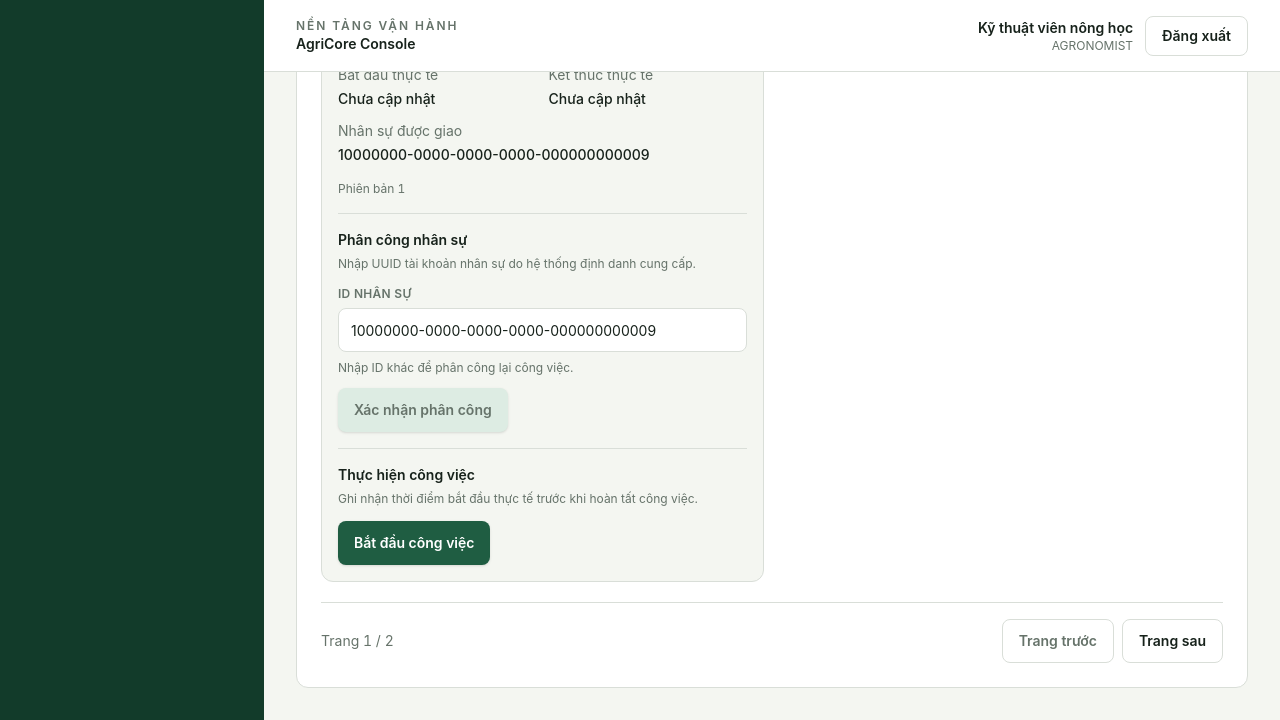
Test: work-task workspace › returns to the cached previous page when a later page fails
(page scrolled)
Click the button "Trang sau": (1172, 641) [1122,619,1223,663]
(page scrolled)
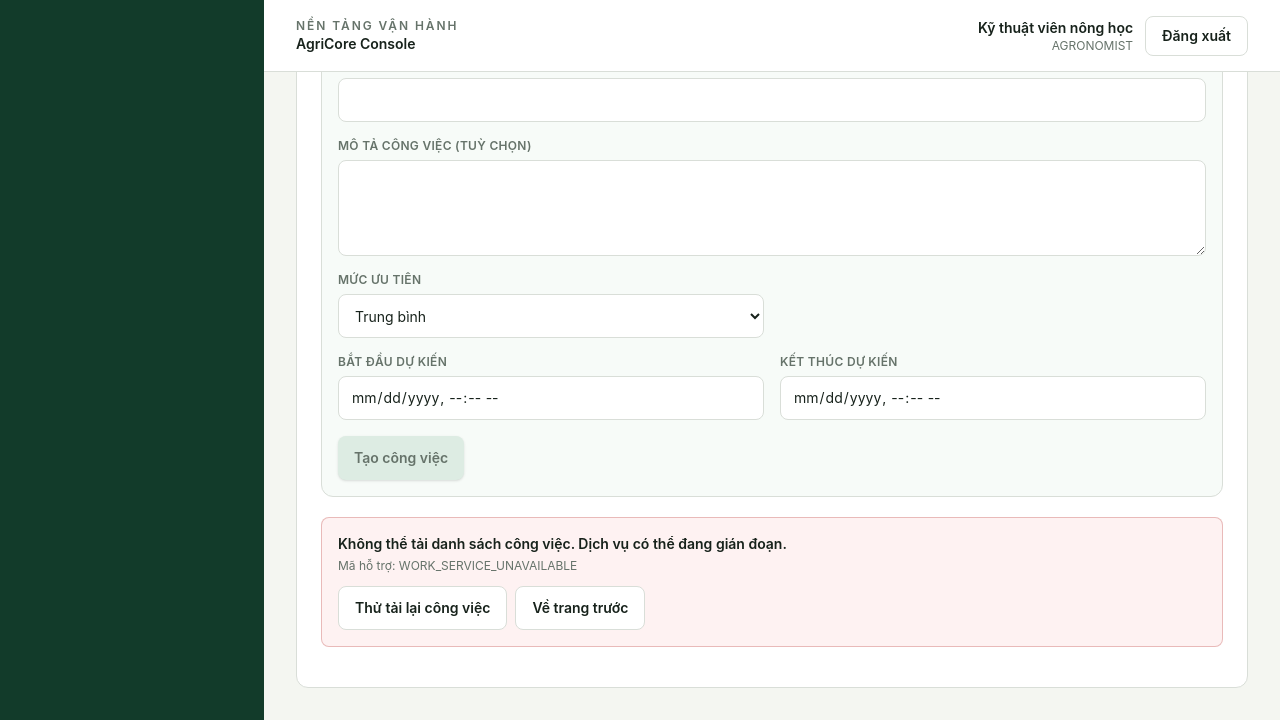
Check: the message named "Không thể tải công việc" shows "WORK_SERVICE_UNAVAILABLE", box [399,558,577,573]
Click the button "Về trang trước": (580, 608) [515,586,645,630]
(page scrolled)
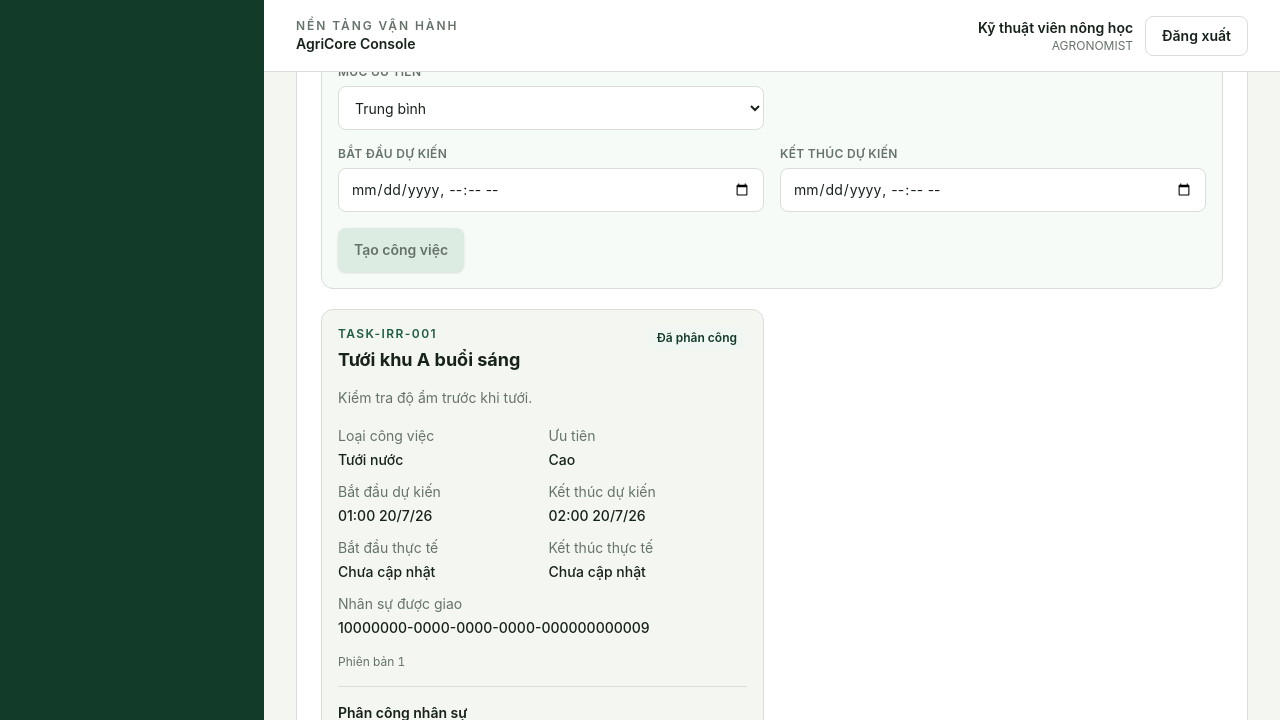
Check: the heading "Tưới khu A buổi sáng" is shown, box [338,346,520,374]
